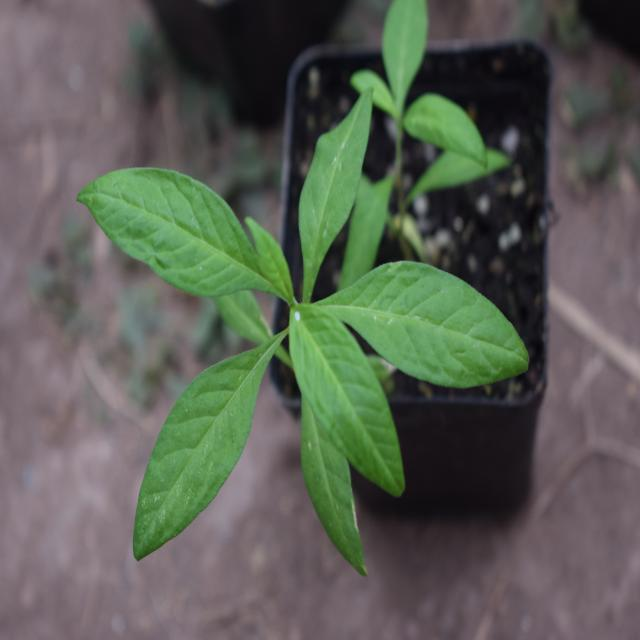white_smart_weed: (65, 91, 512, 554)
